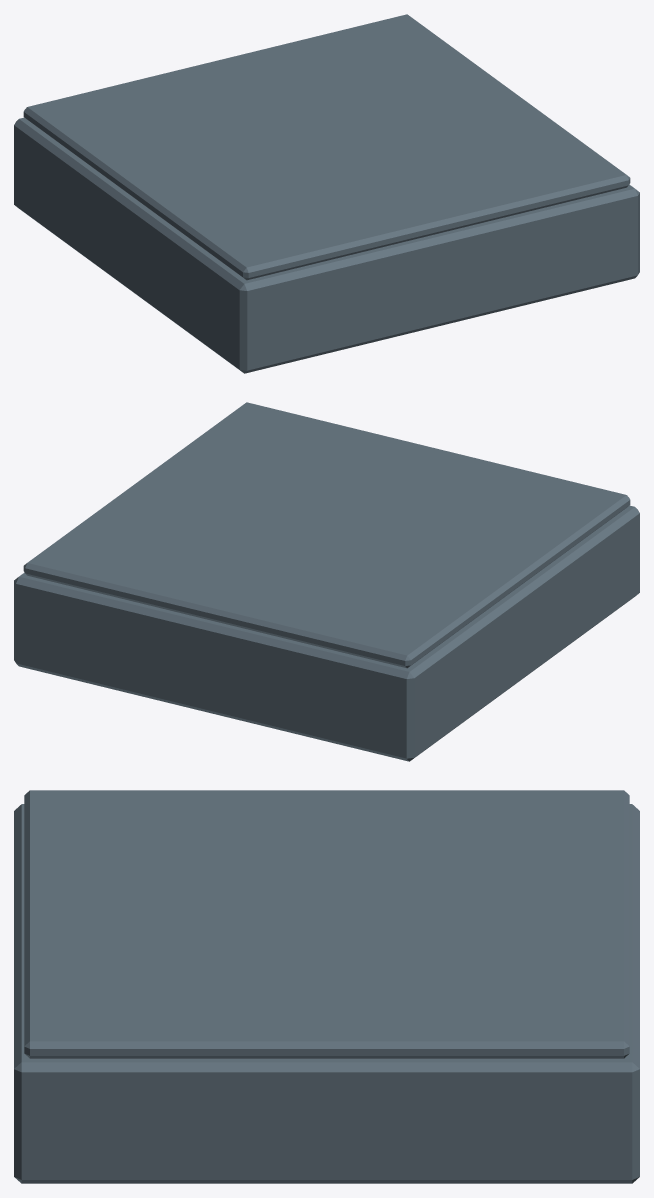
Rendered from FloorPlain.fbx.
3 views of the same model, one above another, from view 1: azimuth 30°, elevation 25°; view 2: azimuth 150°, elevation 25°; view 3: azimuth 270°, elevation 25° (orthographic). The views are drawn at different scales.
Visible parts, largest first — view 1: Deck; view 2: Deck; view 3: Deck.
Part boxes in pixels (x1,y1,x2,y2): Deck: [14, 14, 639, 373]; Deck: [14, 402, 639, 761]; Deck: [14, 790, 639, 1183].
Size of the model in its own units: 0.98 by 0.24 by 0.98.
